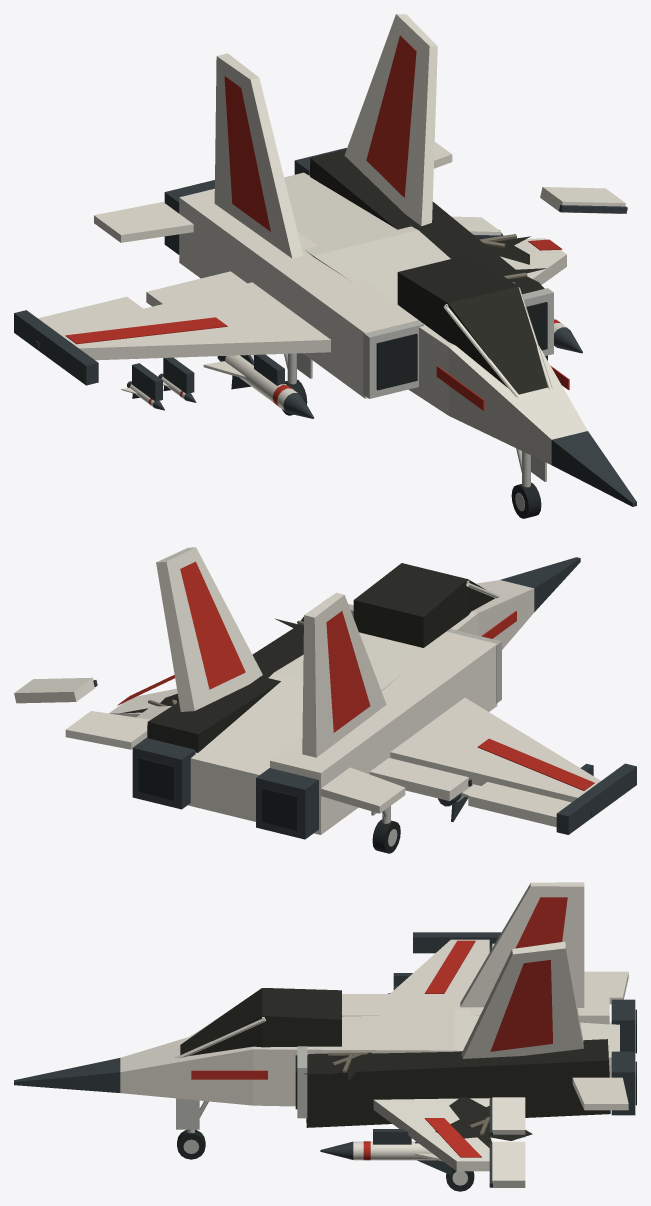
3 views of the same model, one above another, from view 1: azimuth 30°, elevation 25°; view 2: azimuth 150°, elevation 25°; view 3: azimuth 270°, elevation 25° (orthographic). The views are drawn at different scales.
Visible parts, largest first — view 1: jet-b-damaged-fleet-armor, jet-b-damaged-fleet-damage-charred, jet-b-damaged-fleet-red, jet-b-damaged-fleet-machine, jet-b-damaged-fleet-rubber, elevator-left-fleet-armor, jet-b-damaged-fleet-edge, store-left-large-painted, aileron-right-painted, flap-left-painted, aileron-left-painted, gear-wheel-nose-0-0-painted (+1 smaller); view 2: jet-b-damaged-fleet-armor, jet-b-damaged-fleet-damage-charred, jet-b-damaged-fleet-machine, jet-b-damaged-fleet-red, aileron-left-painted, jet-b-damaged-fleet-rubber, flap-left-painted, elevator-left-fleet-armor, elevator-right-fleet-armor, aileron-right-painted, gear-wheel-left-0-0-painted, jet-b-damaged-fleet-edge (+1 smaller); view 3: jet-b-damaged-fleet-armor, jet-b-damaged-fleet-damage-charred, jet-b-damaged-fleet-red, jet-b-damaged-fleet-machine, store-right-large-painted, aileron-right-painted, elevator-right-fleet-armor, flap-right-painted, elevator-left-fleet-armor, landing-gear-nose-fleet-edge, jet-b-damaged-fleet-edge, gear-wheel-nose-0-0-painted (+2 smaller).
Boxes of the visible parts, x1,y1,x2,y2 form: jet-b-damaged-fleet-armor: [55, 14, 587, 464]; jet-b-damaged-fleet-damage-charred: [310, 149, 547, 394]; jet-b-damaged-fleet-red: [65, 35, 569, 410]; jet-b-damaged-fleet-machine: [14, 148, 636, 506]; jet-b-damaged-fleet-rubber: [376, 302, 547, 390]; elevator-left-fleet-armor: [94, 202, 193, 242]; jet-b-damaged-fleet-edge: [363, 288, 553, 398]; store-left-large-painted: [203, 355, 314, 418]; aileron-right-painted: [540, 187, 627, 213]; flap-left-painted: [146, 271, 246, 306]; aileron-left-painted: [36, 296, 143, 348]; gear-wheel-nose-0-0-painted: [511, 482, 541, 518]; jet-b-damaged-fleet-armor: [109, 547, 600, 834]; jet-b-damaged-fleet-damage-charred: [119, 563, 494, 752]; jet-b-damaged-fleet-machine: [132, 557, 636, 839]; jet-b-damaged-fleet-red: [117, 561, 594, 790]; aileron-left-painted: [468, 782, 593, 827]; jet-b-damaged-fleet-rubber: [138, 758, 297, 830]; flap-left-painted: [369, 758, 472, 801]; elevator-left-fleet-armor: [321, 767, 405, 813]; elevator-right-fleet-armor: [65, 711, 150, 749]; aileron-right-painted: [14, 677, 97, 703]; gear-wheel-left-0-0-painted: [372, 819, 400, 853]; jet-b-damaged-fleet-edge: [322, 599, 501, 703]; jet-b-damaged-fleet-armor: [120, 882, 619, 1171]; jet-b-damaged-fleet-damage-charred: [180, 988, 610, 1147]; jet-b-damaged-fleet-red: [191, 897, 567, 1157]; jet-b-damaged-fleet-machine: [14, 932, 635, 1144]; store-right-large-painted: [320, 1141, 452, 1175]; aileron-right-painted: [489, 1141, 525, 1187]; elevator-right-fleet-armor: [572, 1077, 628, 1110]; flap-right-painted: [489, 1097, 525, 1137]; elevator-left-fleet-armor: [584, 971, 628, 1004]; landing-gear-nose-fleet-edge: [176, 1098, 208, 1133]; jet-b-damaged-fleet-edge: [297, 1046, 307, 1118]; gear-wheel-nose-0-0-painted: [177, 1129, 205, 1159].
Bounding box in the file's own units: 48.99 × 24.7 × 54.74.
